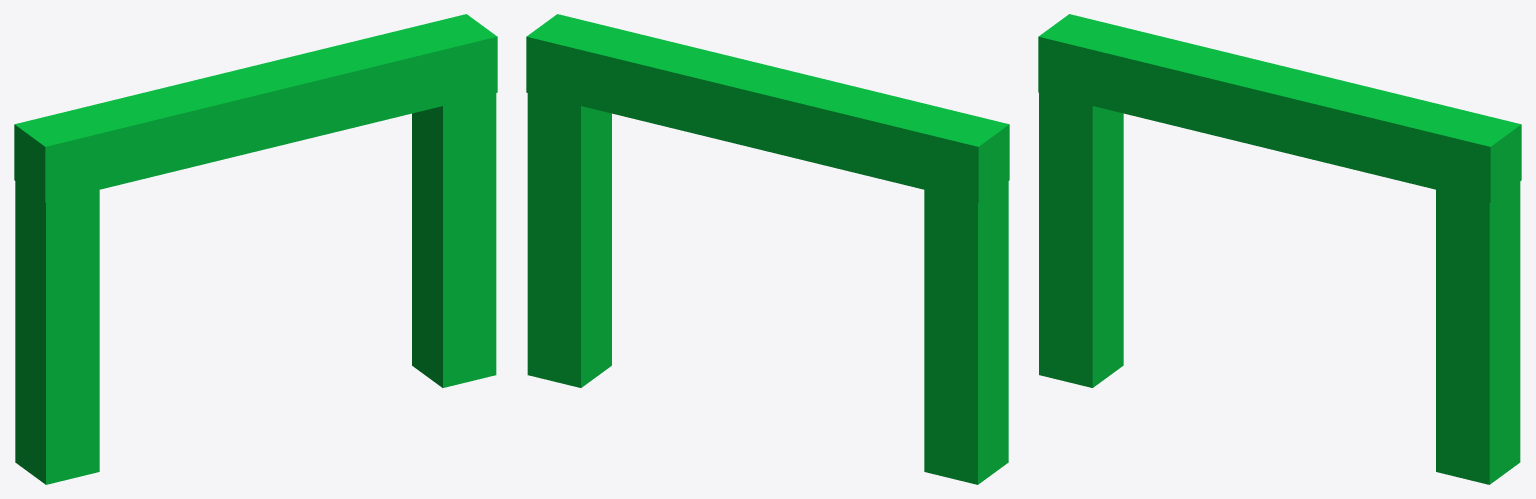
The model's file is trave_verde.fbx.
The picture shows the model from 3 angles, left to right: view 1: azimuth 30°, elevation 25°; view 2: azimuth 150°, elevation 25°; view 3: azimuth 330°, elevation 25°; orthographic projection.
Visible parts, largest first — view 1: Cube, Cube.001, Cube.002; view 2: Cube, Cube.001, Cube.002; view 3: Cube, Cube.002, Cube.001.
Boxes of the visible parts, left/top/right/bottom form: Cube: left=14, top=14, right=497, bottom=202; Cube.001: left=15, top=181, right=99, bottom=484; Cube.002: left=412, top=91, right=496, bottom=387; Cube: left=526, top=14, right=1009, bottom=202; Cube.001: left=924, top=181, right=1008, bottom=484; Cube.002: left=527, top=93, right=611, bottom=387; Cube: left=1038, top=14, right=1521, bottom=202; Cube.002: left=1436, top=181, right=1520, bottom=484; Cube.001: left=1039, top=91, right=1123, bottom=387.
Bounding box in the file's own units: 338 × 241 × 40.
